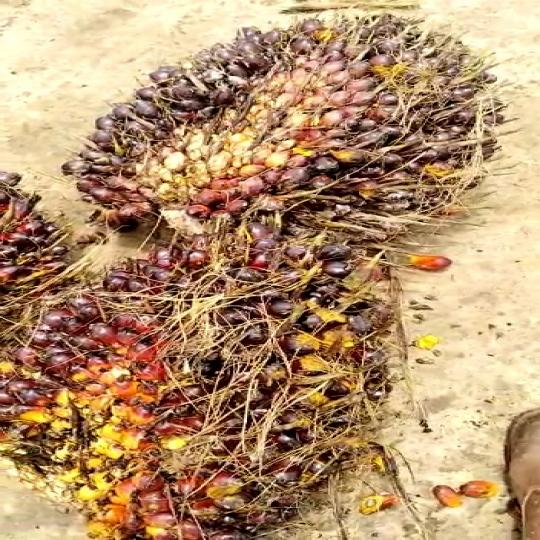kurang masak: (3, 242, 382, 540), (84, 13, 526, 262)
